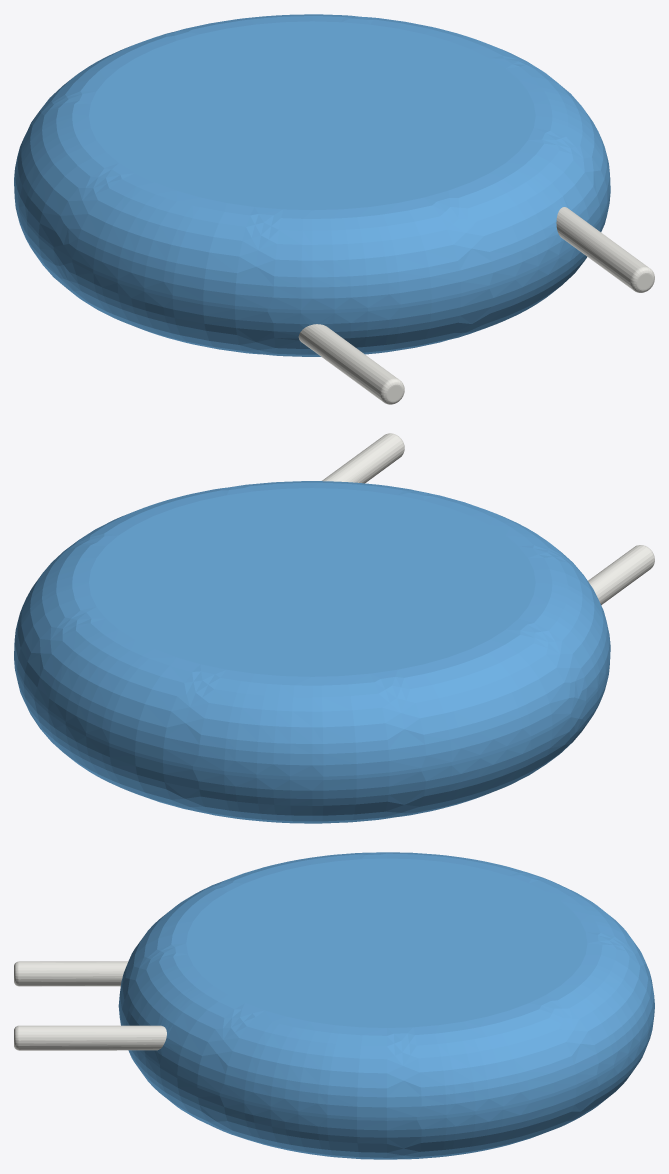
File: RV_Disc_D15.5mm_W4mm_P7.5mm.glb
The picture shows the model from 3 angles, top to bottom: view 1: azimuth 30°, elevation 25°; view 2: azimuth 150°, elevation 25°; view 3: azimuth 270°, elevation 25°; orthographic projection. The views are drawn at different scales.
Visible parts, largest first — view 1: Shape_IndexedFaceSet.001, Shape_IndexedFaceSet.003, Shape_IndexedFaceSet.002, Shape_IndexedFaceSet.006, Shape_IndexedFaceSet.004, Shape_IndexedFaceSet; view 2: Shape_IndexedFaceSet.001, Shape_IndexedFaceSet.003, Shape_IndexedFaceSet.002, Shape_IndexedFaceSet, Shape_IndexedFaceSet.004, Shape_IndexedFaceSet.006; view 3: Shape_IndexedFaceSet.001, Shape_IndexedFaceSet.003, Shape_IndexedFaceSet.002, Shape_IndexedFaceSet.004, Shape_IndexedFaceSet.006, Shape_IndexedFaceSet.
Part boxes in pixels (x1,y1,x2,y2): Shape_IndexedFaceSet.001: (14, 14, 610, 309); Shape_IndexedFaceSet.003: (89, 21, 535, 210); Shape_IndexedFaceSet.002: (14, 193, 610, 356); Shape_IndexedFaceSet.006: (298, 324, 397, 401); Shape_IndexedFaceSet.004: (556, 207, 648, 289); Shape_IndexedFaceSet: (14, 183, 610, 313); Shape_IndexedFaceSet.001: (14, 481, 610, 776); Shape_IndexedFaceSet.003: (89, 488, 535, 676); Shape_IndexedFaceSet.002: (14, 660, 609, 823); Shape_IndexedFaceSet: (14, 649, 610, 780); Shape_IndexedFaceSet.004: (322, 433, 403, 483); Shape_IndexedFaceSet.006: (588, 545, 653, 604); Shape_IndexedFaceSet.001: (119, 852, 654, 1117); Shape_IndexedFaceSet.003: (186, 858, 587, 1027); Shape_IndexedFaceSet.002: (119, 1010, 654, 1159); Shape_IndexedFaceSet.004: (19, 1025, 166, 1050); Shape_IndexedFaceSet.006: (19, 961, 128, 986); Shape_IndexedFaceSet: (118, 1005, 654, 1120).
Bounding box in the file's own units: 6.1 × 1.58 × 7.29.
